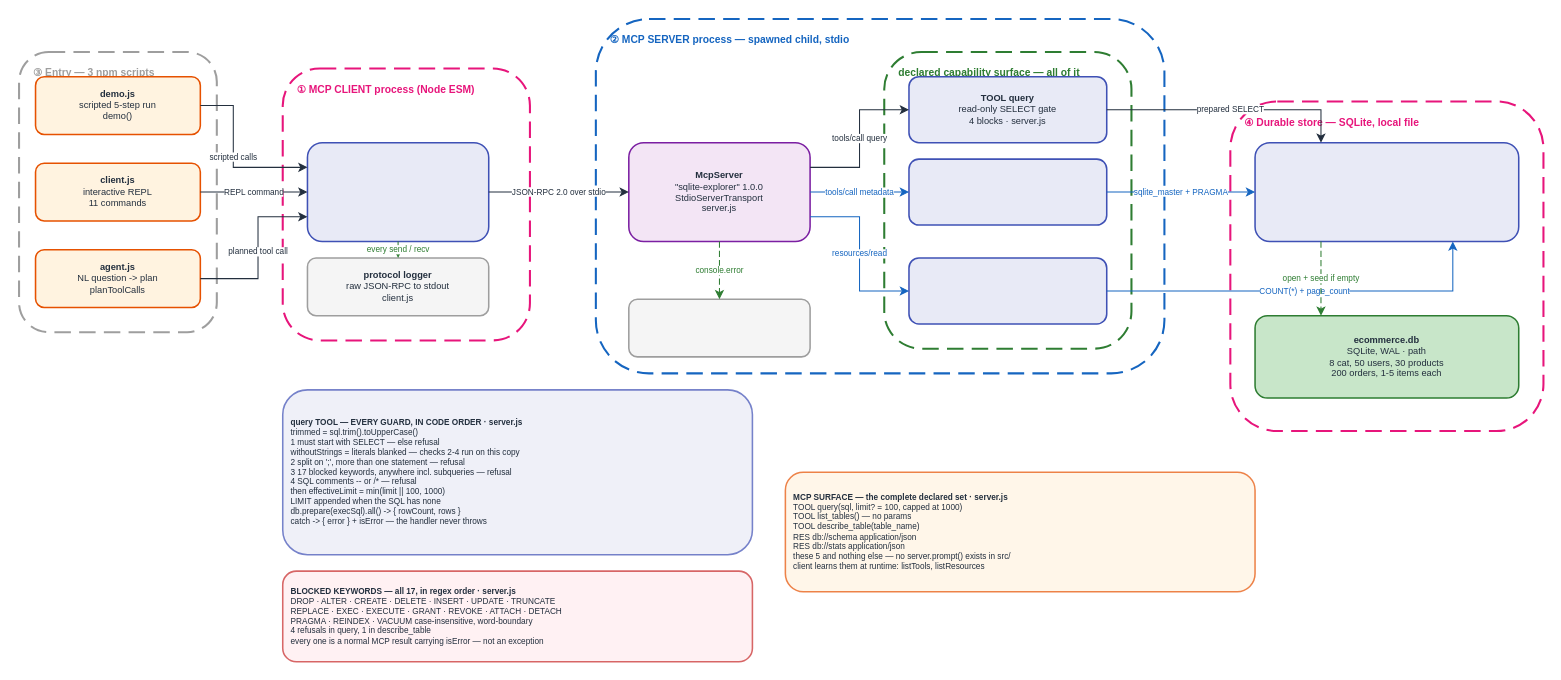
Image size: 1561x680. Some labels were removed from this diagram. Each missing label, with the centre of its shape:
"Client (MCP SDK) StdioClientTransport spawns node server.js client.js" goes at (x=397, y=191).
"database.js getDatabase -> create seedDatabase, idempotent 5 tables + 4 indexes" goes at (x=1386, y=191).
"RESOURCES db://schema db://stats" goes at (x=1007, y=290).
"stderr diagnostics stdout is reserved for protocol" goes at (x=719, y=327).
"TOOLS list_tables + describe_table server.js" goes at (x=1007, y=191).
